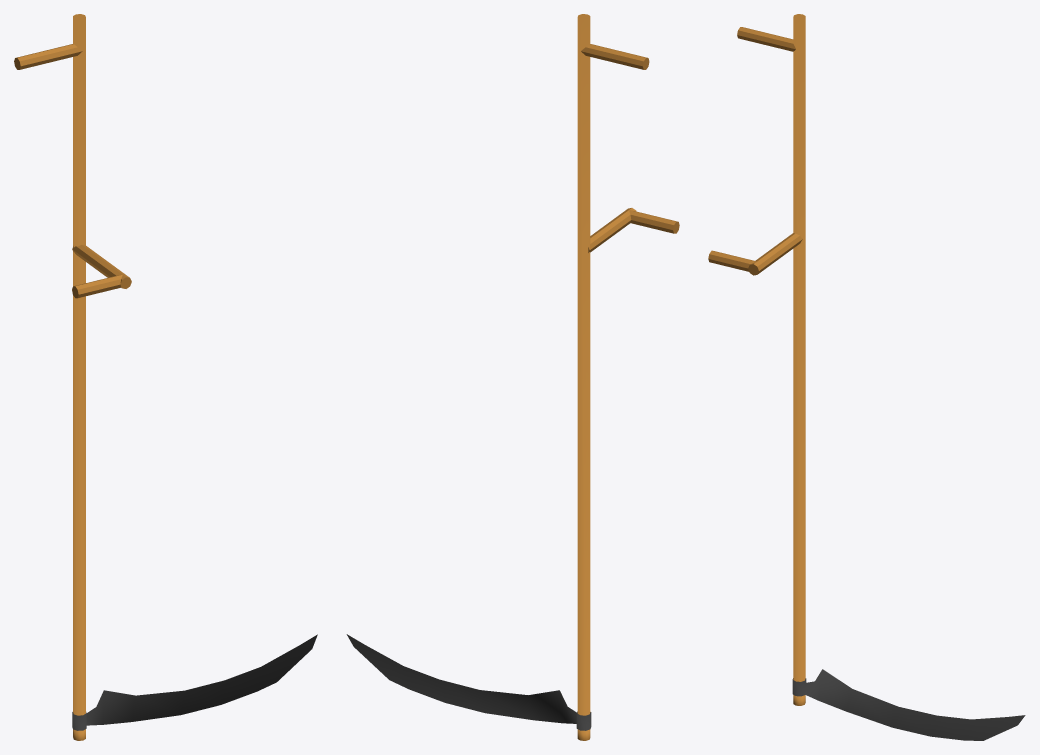
Rendered from scythe.glb.
3 views of the same model, side by side, from view 1: azimuth 30°, elevation 25°; view 2: azimuth 150°, elevation 25°; view 3: azimuth 330°, elevation 25° (orthographic). The views are drawn at different scales.
Parts seen in each view (by area): view 1: GEO_Scythe; view 2: GEO_Scythe; view 3: GEO_Scythe.
Boxes of the visible parts, x1,y1,x2,y2 form: GEO_Scythe: (14, 14, 317, 740); GEO_Scythe: (346, 14, 679, 740); GEO_Scythe: (708, 14, 1025, 740).
Size of the model in its own units: 0.7166 by 1.65 by 0.2116.
1 material, 1 textured.
